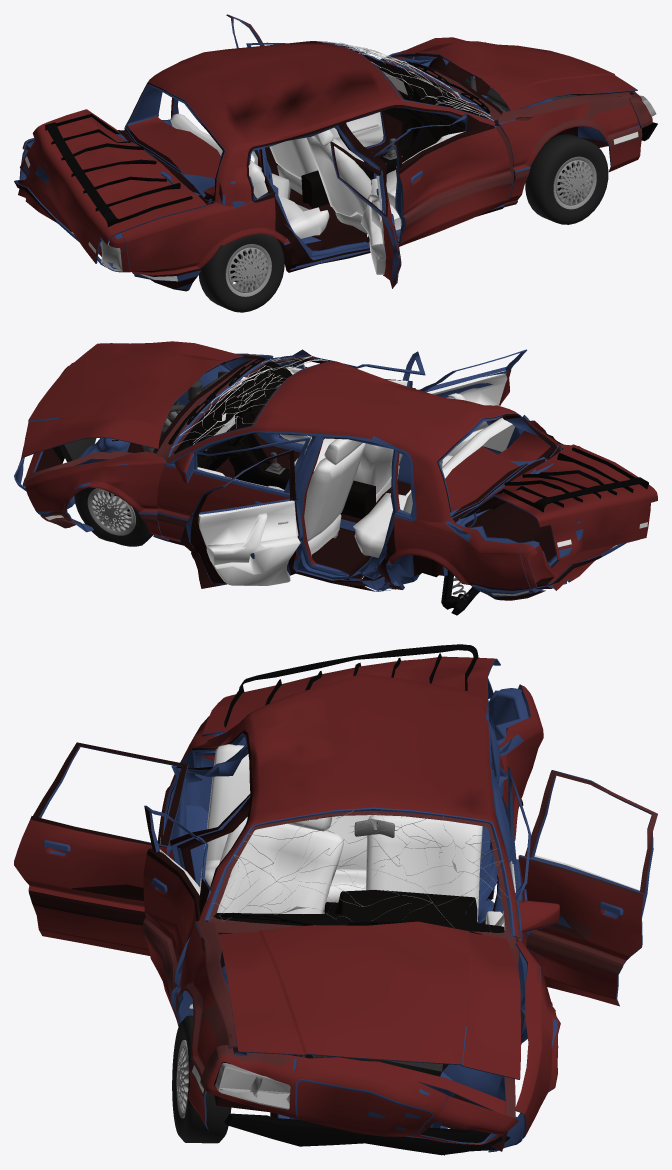
The model's file is wreckedCar_1_Col.fbx.
3 views of the same model, one above another, from view 1: azimuth 30°, elevation 25°; view 2: azimuth 150°, elevation 25°; view 3: azimuth 270°, elevation 25° (orthographic). The views are drawn at different scales.
Parts seen in each view (by area): view 1: Wrecked_car1; view 2: Wrecked_car1; view 3: Wrecked_car1.
Part boxes in pixels (<box>): Wrecked_car1: <box>14,14,657,312</box>; Wrecked_car1: <box>14,341,657,615</box>; Wrecked_car1: <box>14,644,657,1155</box>.
Size of the model in its own units: 191 by 56.66 by 133.
